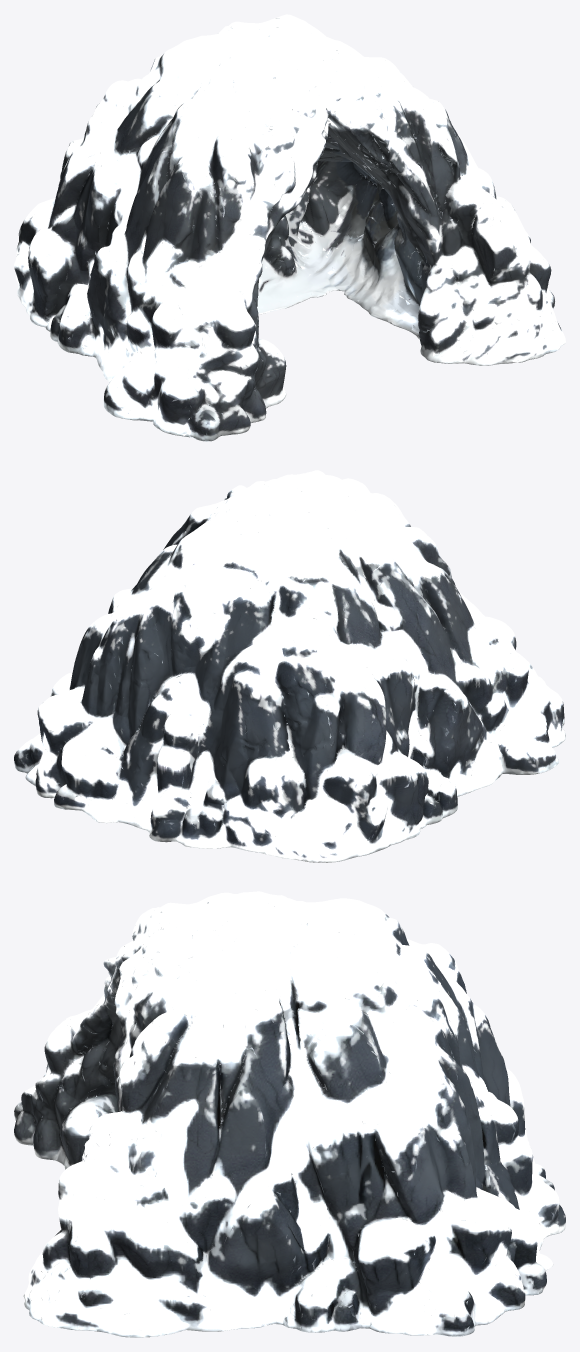
The model's file is CaveExterior.gltf.
3 renders of one model, top to bottom at view 1: azimuth 30°, elevation 25°; view 2: azimuth 150°, elevation 25°; view 3: azimuth 270°, elevation 25°, orthographic. The views are drawn at different scales.
Parts seen in each view (by area): view 1: Mesh_0; view 2: Mesh_0; view 3: Mesh_0.
Boxes of the visible parts, x1,y1,x2,y2 form: Mesh_0: (14,14,565,441); Mesh_0: (14,470,565,862); Mesh_0: (14,891,565,1337).
Bounding box in the file's own units: 184 × 109 × 178.
1 material, 1 textured.
